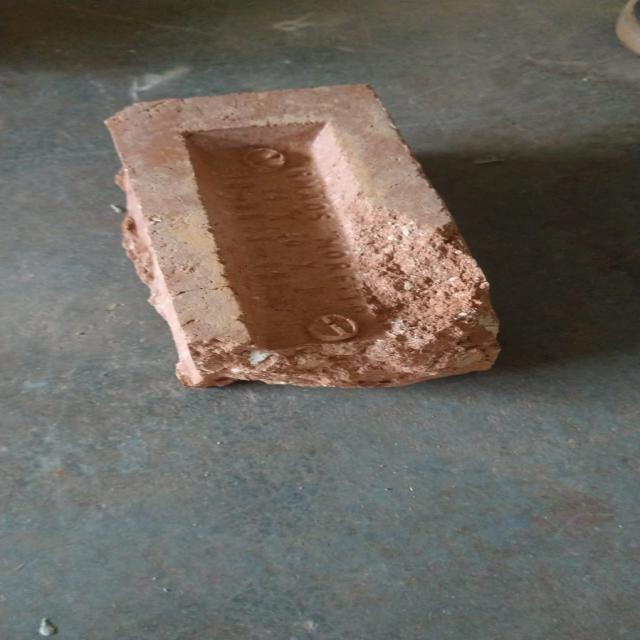bricks_ruin: (105, 74, 504, 391)
